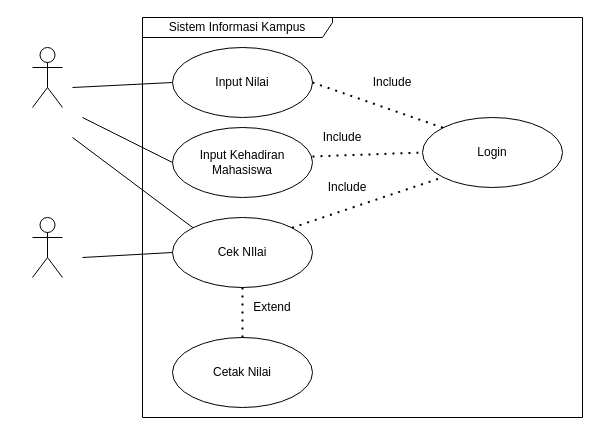
Some shapes in this 600 by 435 pixel diagram are drawn without their labels. Here are the shapes that lost their labels. From the top down, the centre of each, then its label:
the point at 47,77: Dosen
the point at 47,247: Mahasiswa
